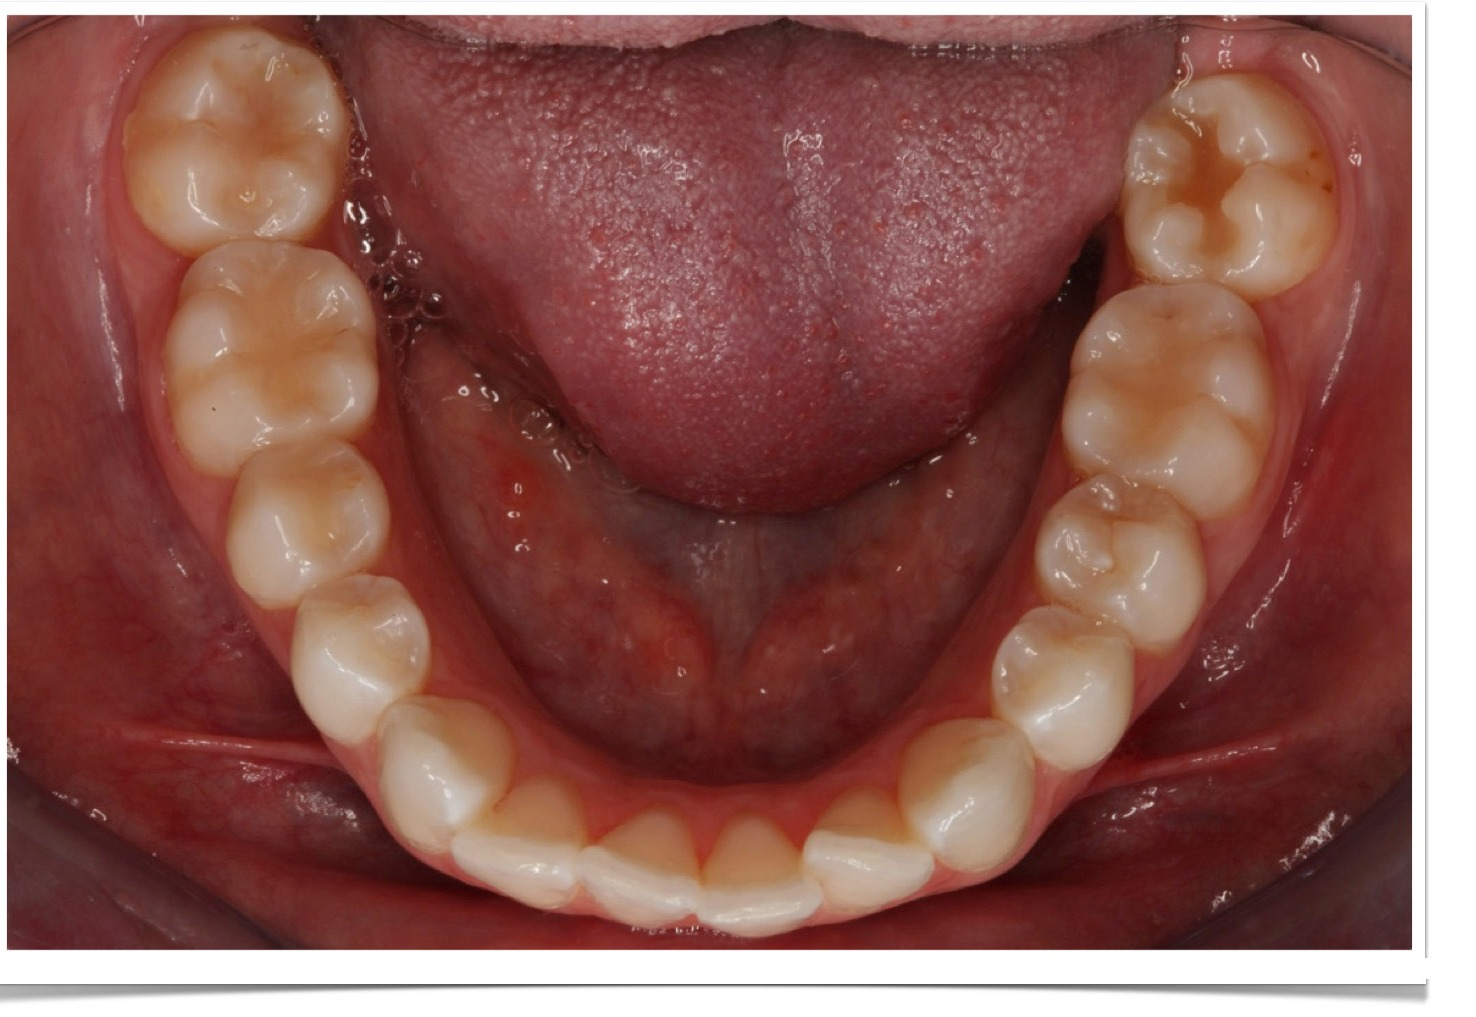LL1BC_healthy: (991, 607, 1134, 758)
LL1M_healthy: (1067, 281, 1271, 500)
LL2BC_healthy: (1037, 482, 1206, 640)
LL2M_decay: (1125, 78, 1341, 285)
LLCI_healthy: (703, 820, 817, 939)
LLC_healthy: (902, 718, 1035, 865)
LLLI_healthy: (808, 793, 931, 900)
LR1BC_healthy: (293, 579, 427, 725)
LR1M_healthy: (168, 240, 377, 447)
LR2BC_healthy: (227, 442, 387, 600)
LR2M_healthy: (124, 33, 339, 242)
LRCI_healthy: (585, 811, 698, 922)
LRC_healthy: (384, 696, 509, 833)
LRLI_healthy: (473, 783, 582, 910)
